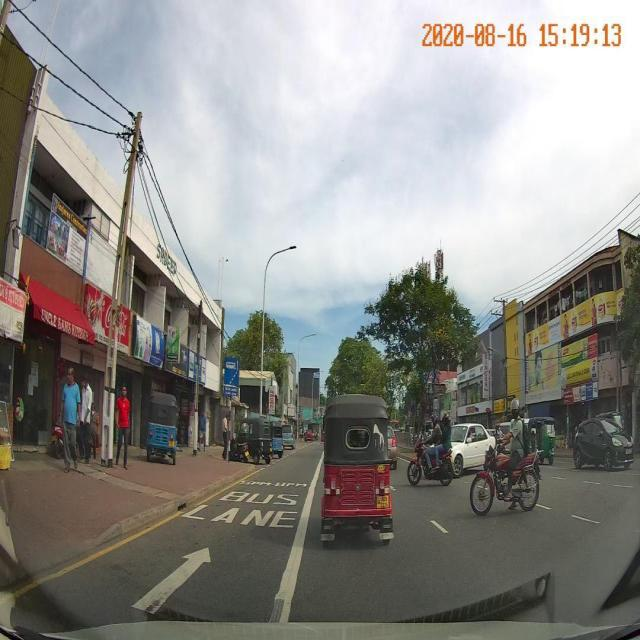BUS LANE: (174, 488, 300, 530)
Liniya 1: (14, 509, 188, 600), (266, 462, 323, 624), (568, 512, 605, 525), (428, 517, 452, 536), (536, 503, 556, 512)
Strelka vpered: (128, 543, 213, 617)
